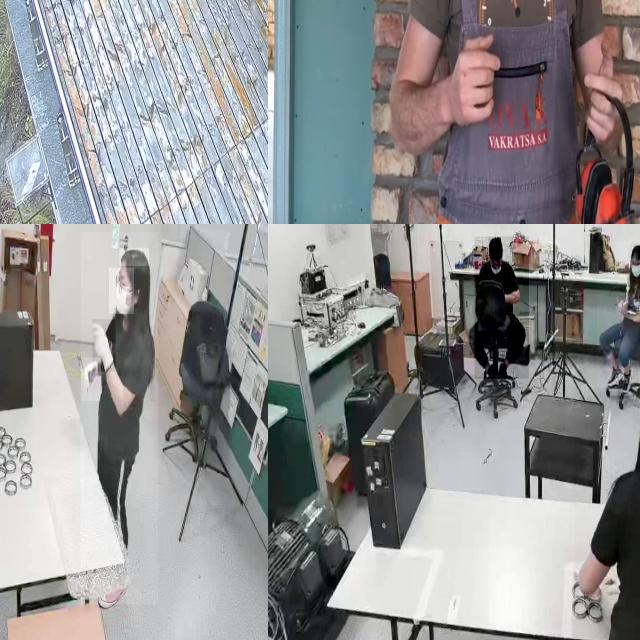face_mask: (109, 268, 134, 314), (630, 260, 640, 283)
glasses: (114, 274, 126, 298)
hand_glove: (92, 319, 116, 372), (81, 357, 101, 401)
hand_noglove: (616, 298, 624, 315)
head_nohelmet: (120, 248, 150, 267), (488, 236, 502, 252), (630, 242, 640, 259)
person: (80, 232, 158, 606), (574, 357, 640, 640), (474, 236, 530, 380), (597, 242, 640, 388)
shoes: (605, 364, 625, 390)
